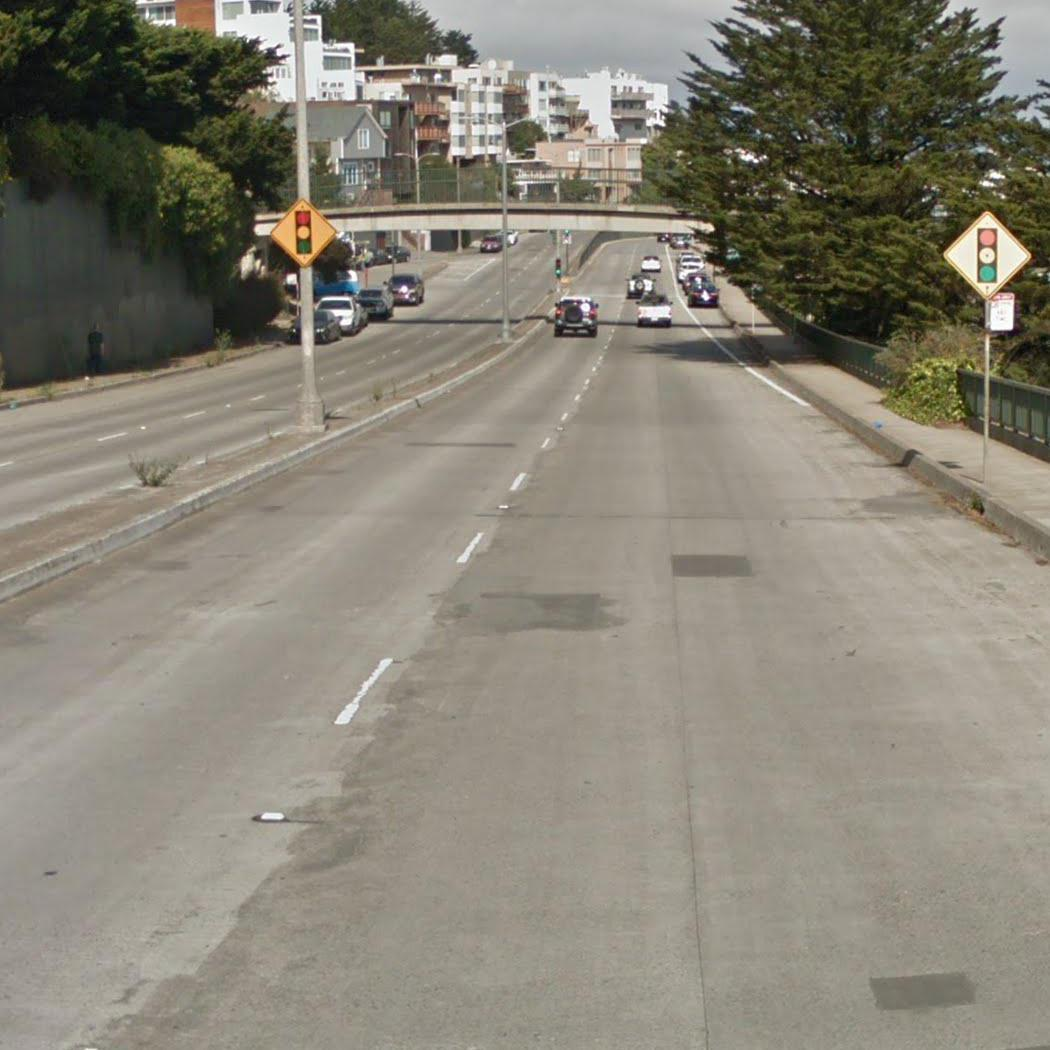No Parking Anytime: (983, 290, 1021, 333)
